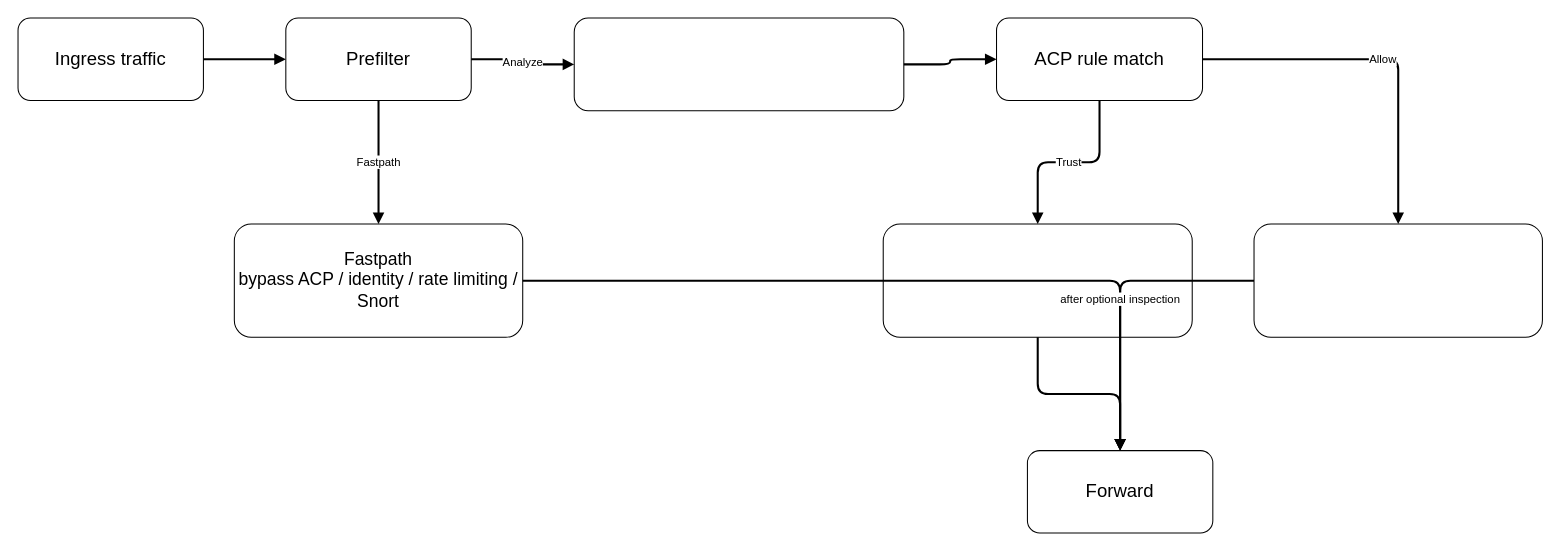
The diagram is 1560 pixels wide and 551 high, and some of its shapes have lost their labels. The box of each missing label's shape, as (x1, y1, x2, y2) in pixels:
Allow permit + optional File Policy / Intrusion Policy / discovery: (1253, 223, 1542, 337)
Decryption / Security Intelligence / Identity (as configured before ACP): (573, 17, 904, 111)
Trust permit, but NO further file / intrusion / network discovery: (882, 223, 1192, 337)
